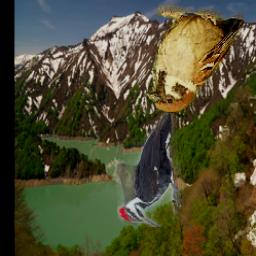Sparrow: (145, 5, 245, 113)
Woodpecker: (118, 106, 183, 227)
